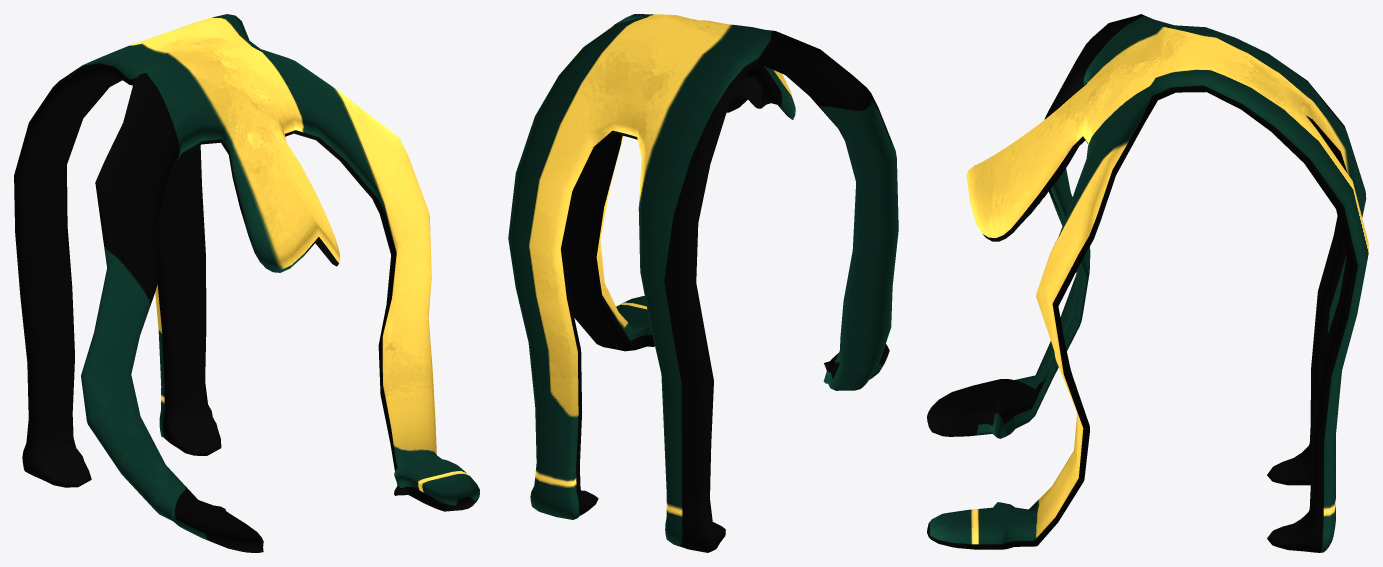
Rendered from sawagibito.fbx.
3 views of the same model, side by side, from view 1: azimuth 30°, elevation 25°; view 2: azimuth 150°, elevation 25°; view 3: azimuth 270°, elevation 25° (orthographic). The views are drawn at different scales.
Visible parts, largest first — view 1: sawagibito; view 2: sawagibito; view 3: sawagibito.
Boxes of the visible parts, box(x1,y1,x2,y2) form: sawagibito: box(14, 14, 479, 552); sawagibito: box(508, 14, 898, 552); sawagibito: box(927, 14, 1368, 552).
Size of the model in its own units: 4.14 by 5.29 by 4.49.
